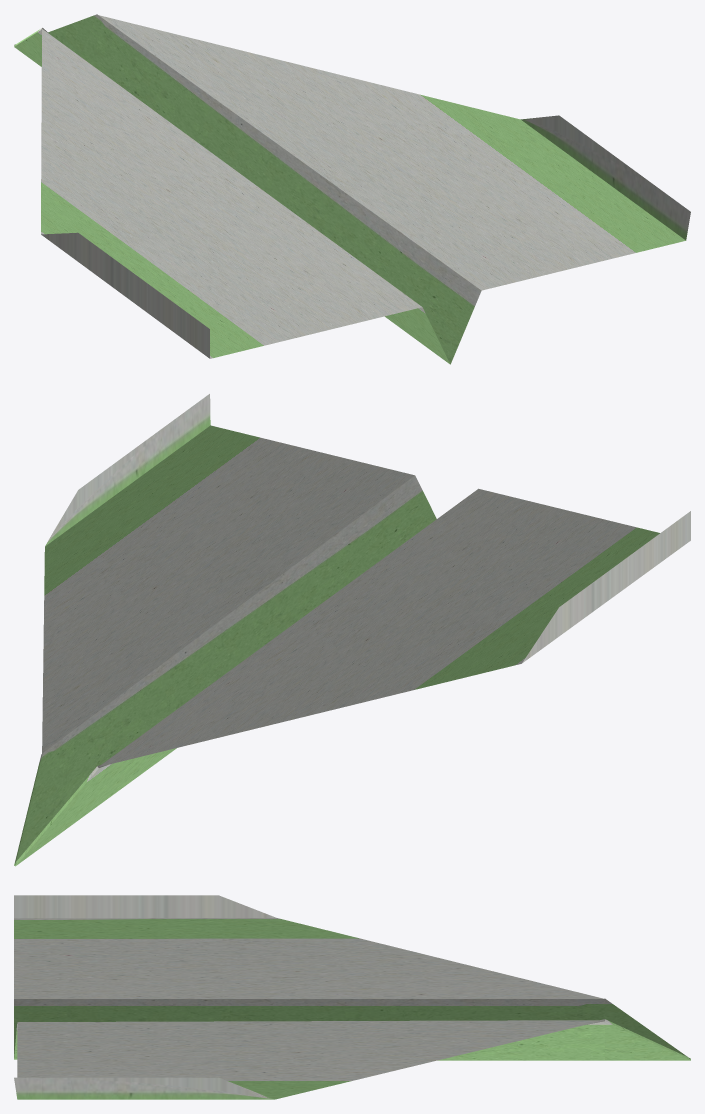
Rendered from GreenPaperPlaneOne.obj.
The picture shows the model from 3 angles, top to bottom: view 1: azimuth 30°, elevation 25°; view 2: azimuth 150°, elevation 25°; view 3: azimuth 270°, elevation 25°; orthographic projection. The views are drawn at different scales.
Visible parts, largest first — view 1: Layer0_001; view 2: Layer0_001; view 3: Layer0_001.
Part boxes in pixels (<box>): Layer0_001: <box>14,14,690,364</box>; Layer0_001: <box>14,394,690,866</box>; Layer0_001: <box>14,895,690,1099</box>.
Size of the model in its own units: 12.64 by 2.39 by 19.84.
Materials: 1 (1 with a texture image).
